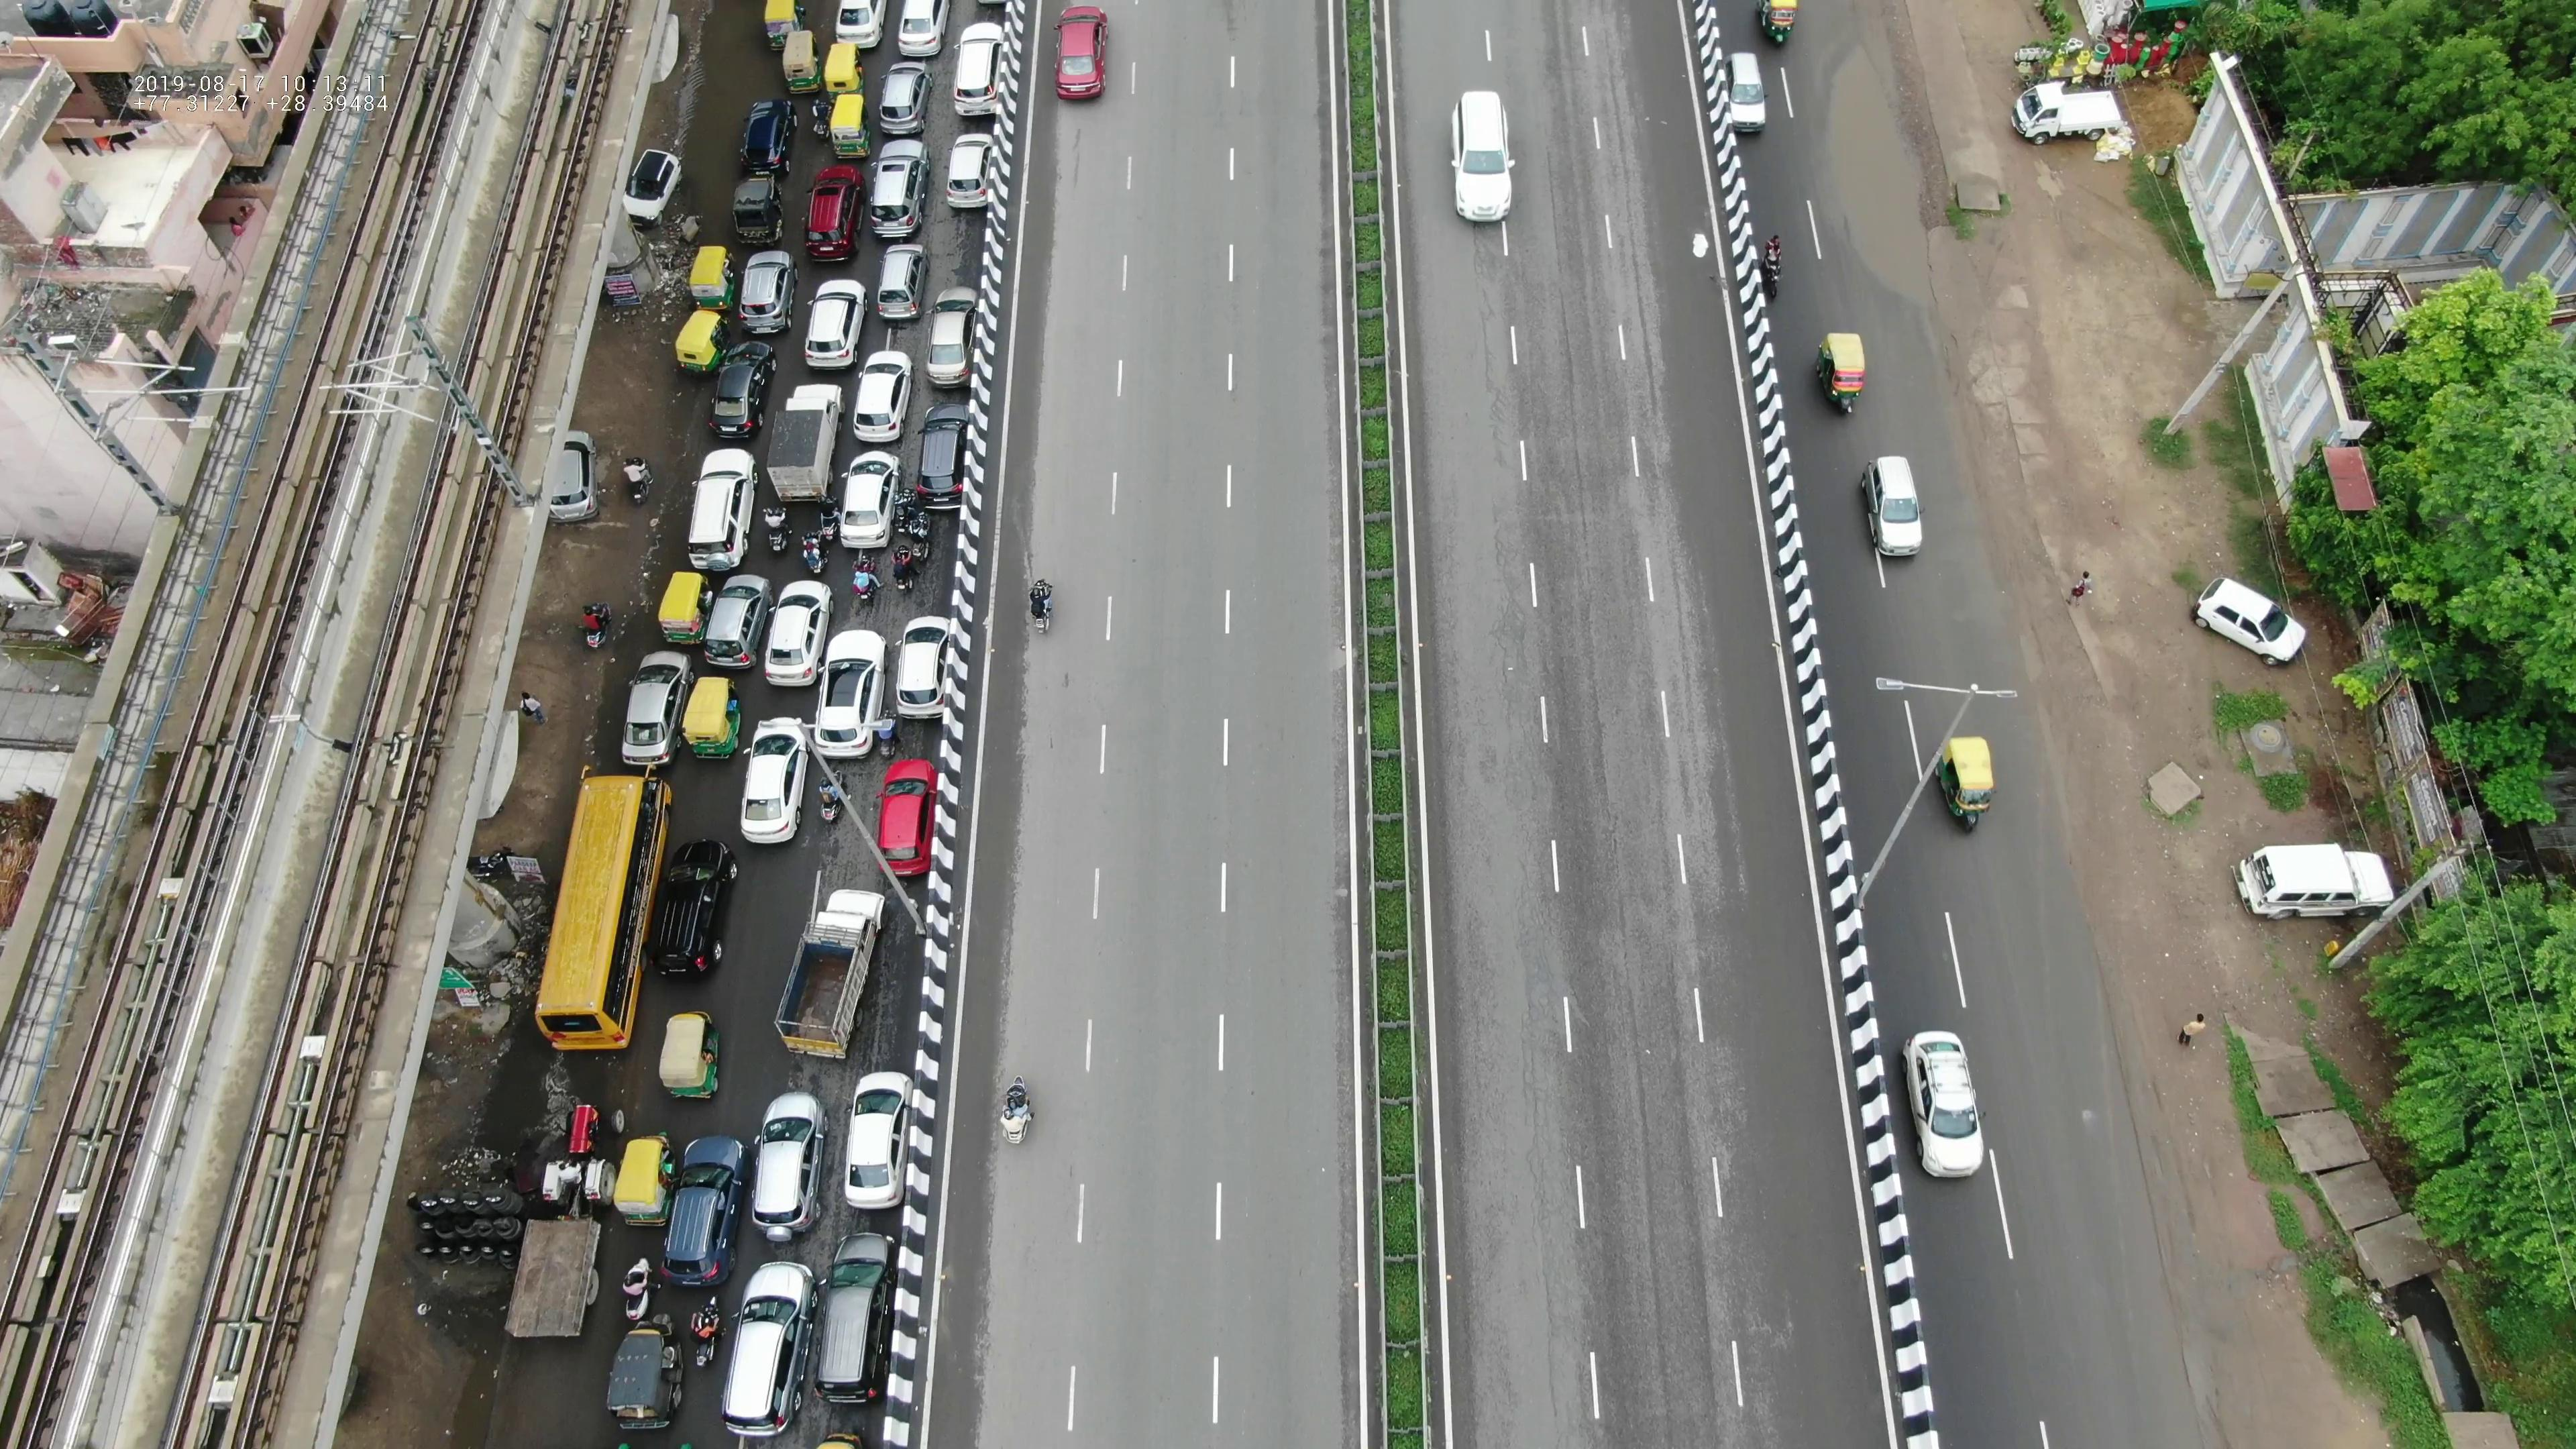Hair_cracks: (1483, 541, 1578, 932), (1502, 977, 1591, 1394), (1460, 239, 1578, 513)
